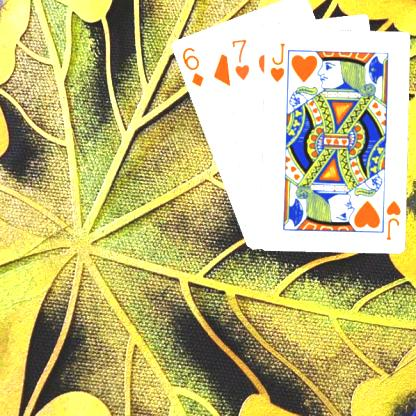6D: (178, 43, 206, 88)
7H: (228, 36, 250, 82)
JH: (383, 197, 402, 241), (267, 40, 286, 83)
